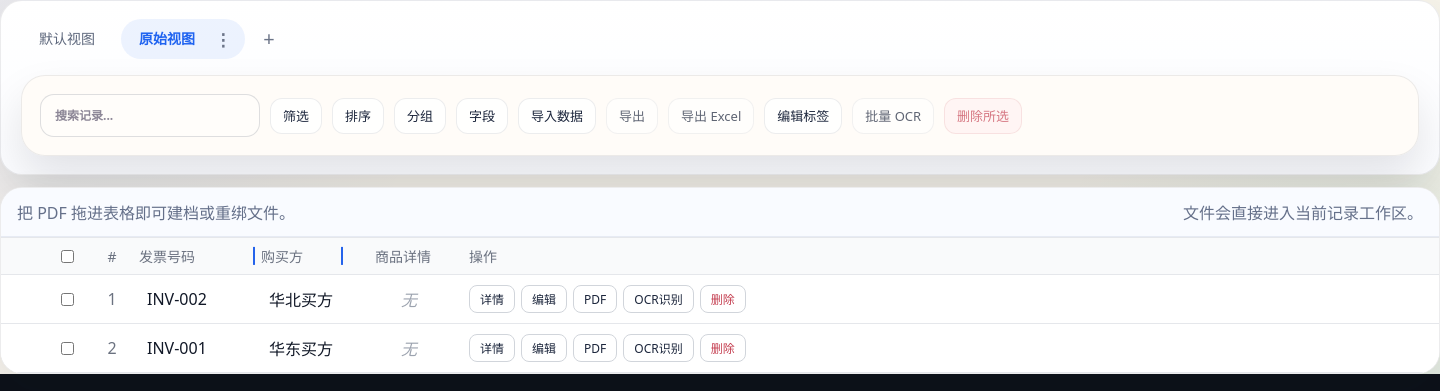
Test case: InvoiceWorkspace saved views › discards the current workspace draft and restores the saved view
Type "华北" into the field with placeholder "搜索记录..." at (150, 116), box x1=40 y1=94 x2=260 y2=137
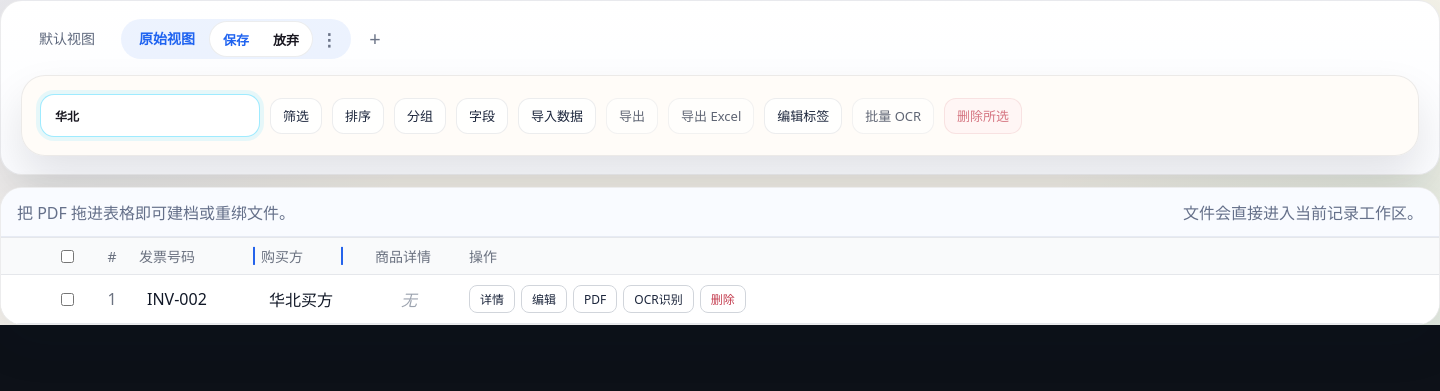
Expected: the field showing "INV-001" is not shown
Click the button "放弃" at (286, 39), box x1=263 y1=25 x2=309 y2=53
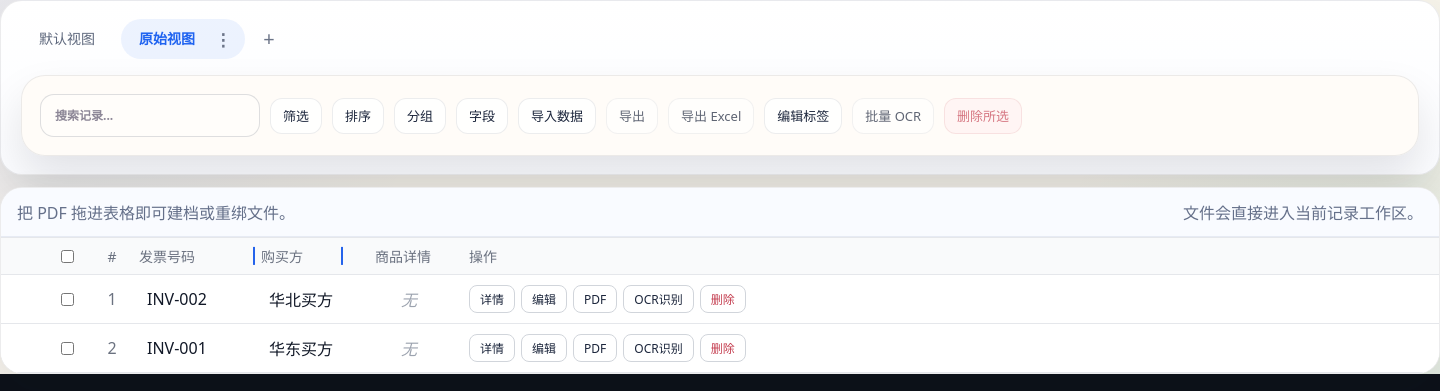
Expected: the 1st field showing "INV-002" is shown, x1=139 y1=283 x2=261 y2=315
Result: the field labelled "搜索" is empty at x1=40 y1=94 x2=260 y2=137
Result: the 3rd field showing "INV-001" is shown at x1=139 y1=332 x2=261 y2=364
